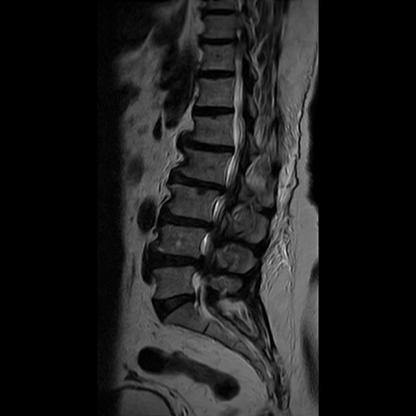Disc Bulgerotation: (136, 242, 204, 284), (156, 202, 223, 233), (149, 289, 203, 321), (164, 171, 231, 195)
